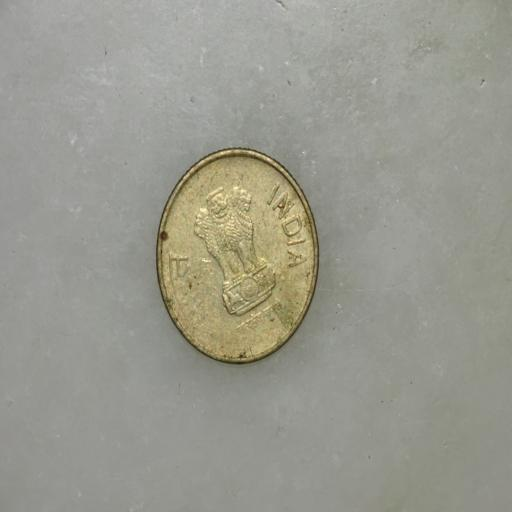rupee5: (150, 148, 322, 369)
